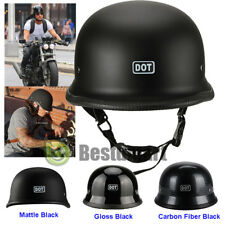with_helmet: (66, 1, 218, 115), (153, 161, 220, 211), (2, 165, 73, 210), (80, 163, 145, 211), (23, 88, 57, 117), (29, 3, 51, 23)
